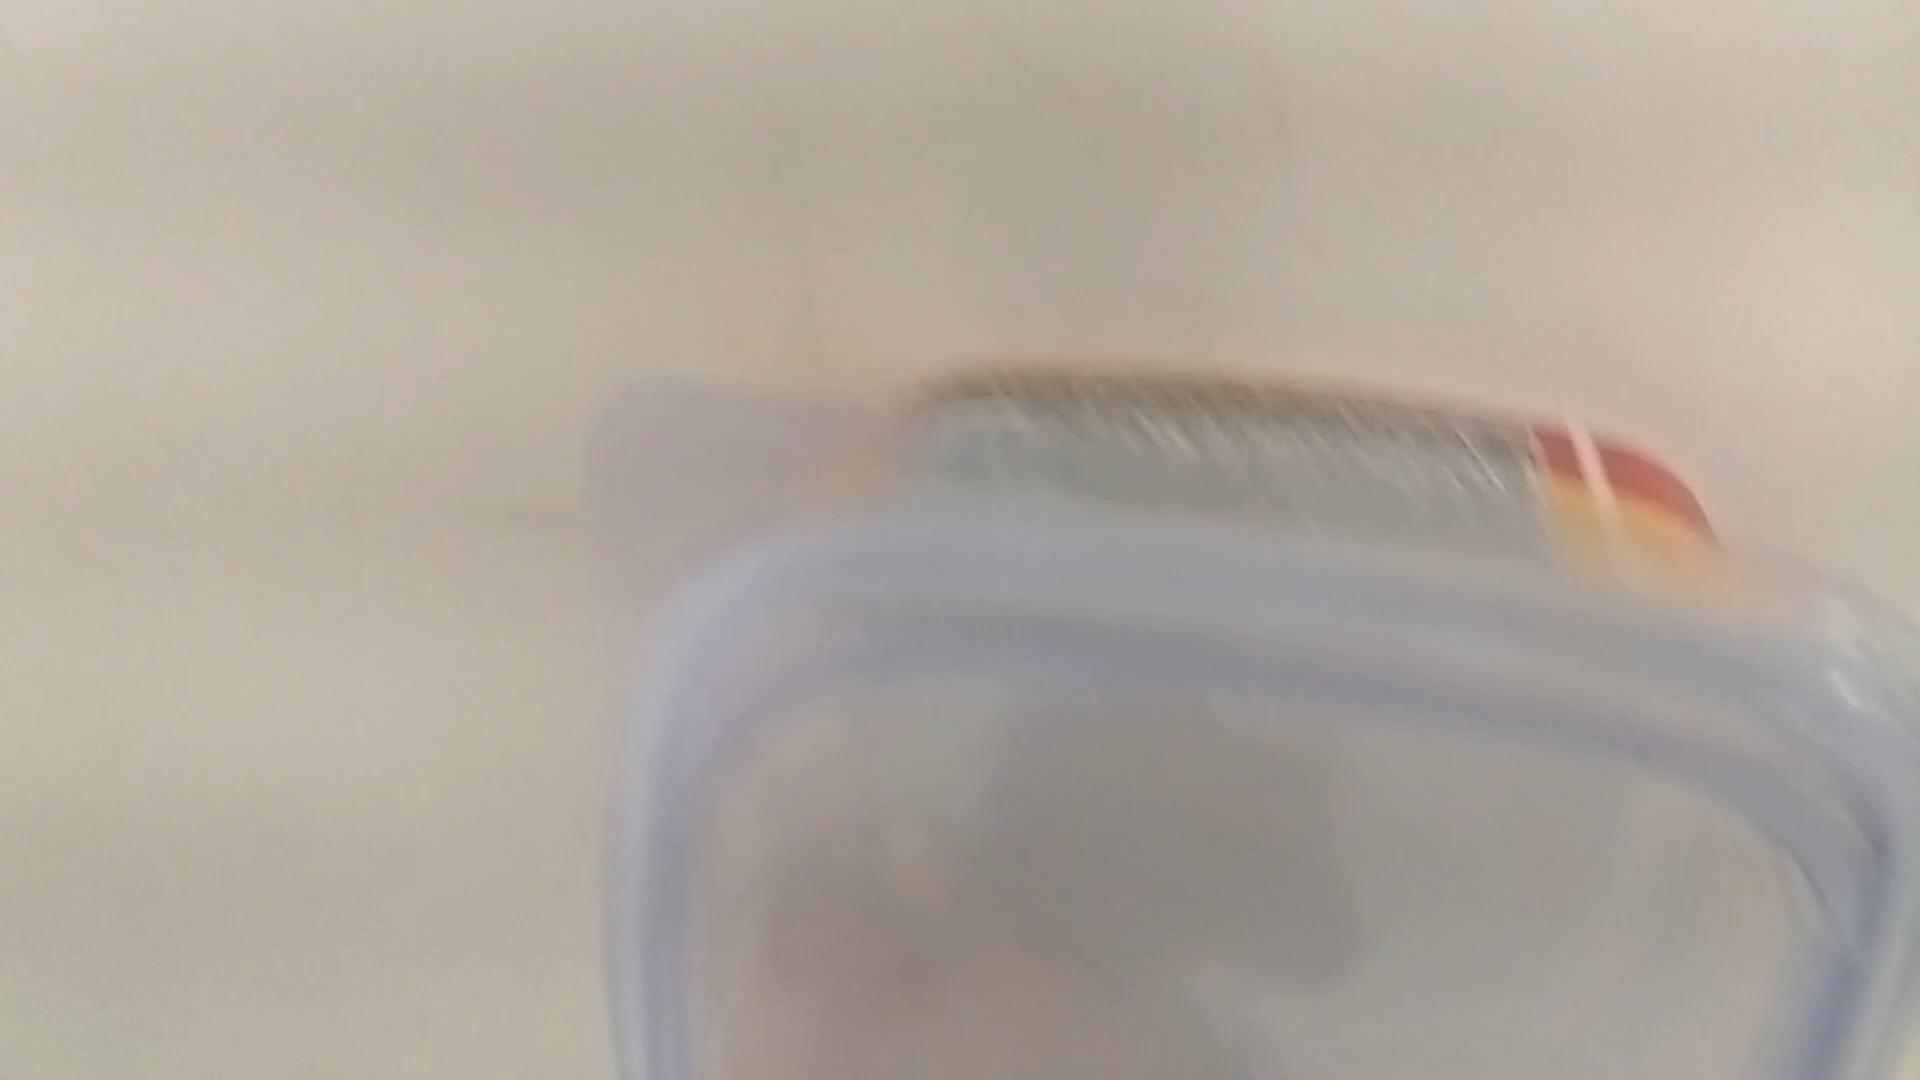butter: (601, 386, 1920, 1076)
